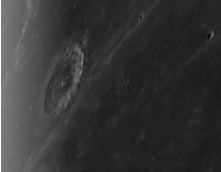crater: (26, 19, 119, 141), (189, 17, 218, 61)
